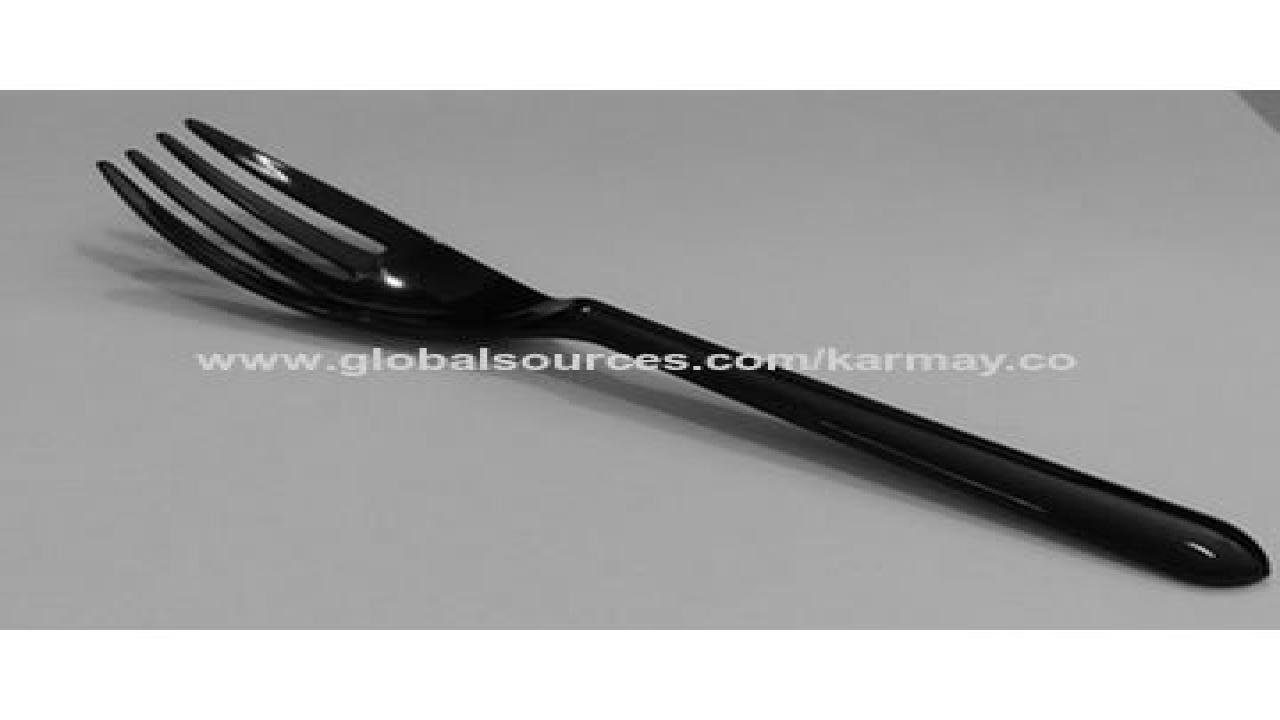fork: (92, 114, 1270, 588)
